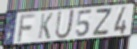4: (113, 5, 128, 36)
5: (75, 8, 93, 38)
F: (16, 13, 37, 43)
K: (37, 13, 54, 41)
U: (54, 8, 76, 40)
Z: (91, 7, 114, 37)
